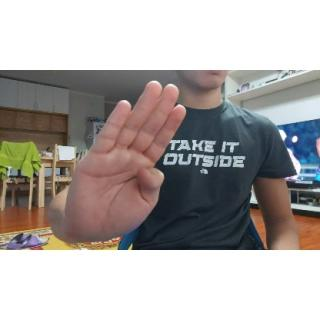KAAF: (51, 76, 194, 250)
